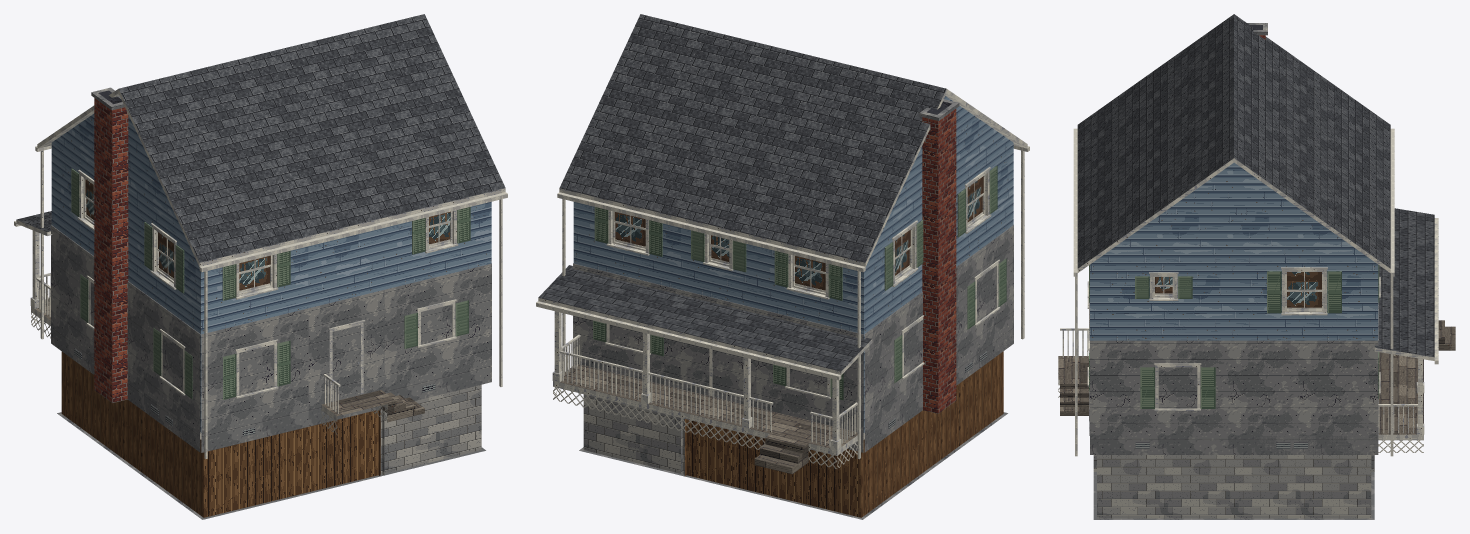
Rendered from RES_House_TwoStorey.obj.
3 views of the same model, side by side, from view 1: azimuth 30°, elevation 25°; view 2: azimuth 150°, elevation 25°; view 3: azimuth 270°, elevation 25° (orthographic). The views are drawn at different scales.
Visible parts, largest first — view 1: RES_House_TwoStorey_Exterior_M_Arch_RoofShinglesDarkGray, RES_House_TwoStorey_Exterior_M_Arch_ConcreteFoundation, RES_House_TwoStorey_Exterior_M_Arch_SidingBlue, RES_House_TwoStorey_Interior_M_Res_WoodPanel, RES_House_TwoStorey_Exterior_M_Arch_BrickRed, RES_House_TwoStorey_Exterior_M_Arch_TrimPainted, RES_House_TwoStorey_Exterior_M_Res_Shutter, RES_House_TwoStorey_Interior_M_Com_StorageConcrete, RES_House_TwoStorey_Exterior_M_Town_PaintWhite, RES_House_TwoStorey_Exterior_M_Arch_WindowGlassDirty, RES_House_TwoStorey_Exterior_M_Arch_WoodPlanksAged, RES_House_TwoStorey_Interior_M_Int_BasementConcrete; view 2: RES_House_TwoStorey_Exterior_M_Arch_RoofShinglesDarkGray, RES_House_TwoStorey_Exterior_M_Arch_ConcreteFoundation, RES_House_TwoStorey_Exterior_M_Arch_SidingBlue, RES_House_TwoStorey_Exterior_M_Arch_TrimPainted, RES_House_TwoStorey_Interior_M_Res_WoodPanel, RES_House_TwoStorey_Exterior_M_Arch_BrickRed, RES_House_TwoStorey_Exterior_M_Arch_WoodPlanksAged, RES_House_TwoStorey_Exterior_M_Res_Shutter, RES_House_TwoStorey_Exterior_M_Town_PaintWhite, RES_House_TwoStorey_Interior_M_Com_StorageConcrete, RES_House_TwoStorey_Exterior_M_Arch_WindowGlassDirty, RES_House_TwoStorey_Exterior_M_Res_Lattice (+1 smaller); view 3: RES_House_TwoStorey_Exterior_M_Arch_RoofShinglesDarkGray, RES_House_TwoStorey_Exterior_M_Arch_SidingBlue, RES_House_TwoStorey_Exterior_M_Arch_ConcreteFoundation, RES_House_TwoStorey_Interior_M_Com_StorageConcrete, RES_House_TwoStorey_Exterior_M_Arch_TrimPainted, RES_House_TwoStorey_Exterior_M_Arch_WoodPlanksAged, RES_House_TwoStorey_Exterior_M_Res_Shutter, RES_House_TwoStorey_Exterior_M_Town_PaintWhite, RES_House_TwoStorey_Exterior_M_Arch_WindowGlassDirty, RES_House_TwoStorey_Interior_M_Int_BasementConcrete.
Part boxes in pixels (bbox=[...]): RES_House_TwoStorey_Exterior_M_Arch_RoofShinglesDarkGray: bbox=[16, 14, 505, 262]; RES_House_TwoStorey_Exterior_M_Arch_ConcreteFoundation: bbox=[51, 87, 491, 452]; RES_House_TwoStorey_Exterior_M_Arch_SidingBlue: bbox=[51, 113, 491, 432]; RES_House_TwoStorey_Interior_M_Res_WoodPanel: bbox=[61, 351, 380, 517]; RES_House_TwoStorey_Exterior_M_Arch_BrickRed: bbox=[94, 98, 128, 402]; RES_House_TwoStorey_Exterior_M_Arch_TrimPainted: bbox=[16, 89, 505, 421]; RES_House_TwoStorey_Exterior_M_Res_Shutter: bbox=[71, 168, 470, 399]; RES_House_TwoStorey_Interior_M_Com_StorageConcrete: bbox=[380, 384, 481, 475]; RES_House_TwoStorey_Exterior_M_Town_PaintWhite: bbox=[14, 145, 507, 458]; RES_House_TwoStorey_Exterior_M_Arch_WindowGlassDirty: bbox=[85, 179, 450, 290]; RES_House_TwoStorey_Exterior_M_Arch_WoodPlanksAged: bbox=[35, 297, 424, 421]; RES_House_TwoStorey_Interior_M_Int_BasementConcrete: bbox=[57, 412, 485, 519]; RES_House_TwoStorey_Exterior_M_Arch_RoofShinglesDarkGray: bbox=[538, 14, 946, 371]; RES_House_TwoStorey_Exterior_M_Arch_ConcreteFoundation: bbox=[573, 99, 1013, 452]; RES_House_TwoStorey_Exterior_M_Arch_SidingBlue: bbox=[573, 96, 1013, 432]; RES_House_TwoStorey_Exterior_M_Arch_TrimPainted: bbox=[538, 89, 1027, 455]; RES_House_TwoStorey_Interior_M_Res_WoodPanel: bbox=[684, 351, 1003, 517]; RES_House_TwoStorey_Exterior_M_Arch_BrickRed: bbox=[922, 109, 956, 413]; RES_House_TwoStorey_Exterior_M_Arch_WoodPlanksAged: bbox=[560, 364, 857, 474]; RES_House_TwoStorey_Exterior_M_Res_Shutter: bbox=[593, 166, 1006, 400]; RES_House_TwoStorey_Exterior_M_Town_PaintWhite: bbox=[536, 145, 1029, 459]; RES_House_TwoStorey_Interior_M_Com_StorageConcrete: bbox=[583, 394, 684, 475]; RES_House_TwoStorey_Exterior_M_Arch_WindowGlassDirty: bbox=[614, 176, 983, 290]; RES_House_TwoStorey_Exterior_M_Res_Lattice: bbox=[553, 387, 857, 468]; RES_House_TwoStorey_Exterior_M_Arch_RoofShinglesDarkGray: bbox=[1077, 14, 1434, 357]; RES_House_TwoStorey_Exterior_M_Arch_SidingBlue: bbox=[1090, 162, 1378, 340]; RES_House_TwoStorey_Exterior_M_Arch_ConcreteFoundation: bbox=[1089, 23, 1378, 454]; RES_House_TwoStorey_Interior_M_Com_StorageConcrete: bbox=[1093, 455, 1374, 518]; RES_House_TwoStorey_Exterior_M_Arch_TrimPainted: bbox=[1058, 158, 1434, 440]; RES_House_TwoStorey_Exterior_M_Arch_WoodPlanksAged: bbox=[1058, 320, 1455, 434]; RES_House_TwoStorey_Exterior_M_Res_Shutter: bbox=[1089, 265, 1379, 408]; RES_House_TwoStorey_Exterior_M_Town_PaintWhite: bbox=[1073, 128, 1438, 456]; RES_House_TwoStorey_Exterior_M_Arch_WindowGlassDirty: bbox=[1155, 272, 1321, 307]; RES_House_TwoStorey_Interior_M_Int_BasementConcrete: bbox=[1093, 472, 1374, 519].
Size of the model in its own units: 10.01 by 11.53 by 11.3.
Materials: 30 (29 with a texture image).
